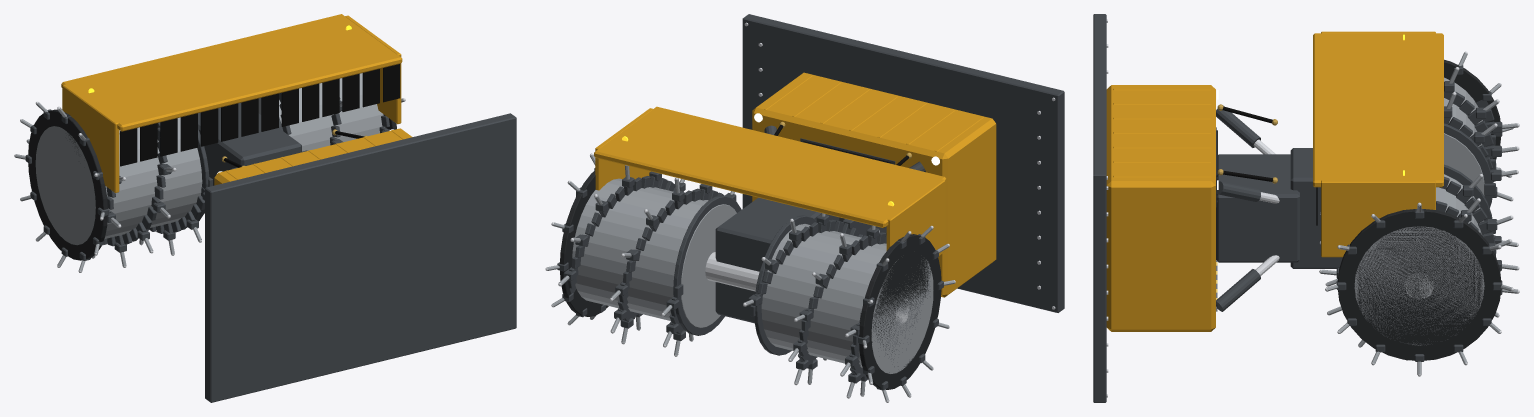
Rendered from mining_head_xl.glb.
3 renders of one model, left to right at view 1: azimuth 30°, elevation 25°; view 2: azimuth 150°, elevation 25°; view 3: azimuth 270°, elevation 25°, orthographic. The views are drawn at different scales.
Visible parts, largest first — view 1: mining_head_xl; view 2: mining_head_xl; view 3: mining_head_xl.
Part boxes in pixels (x1,y1,x2,y2): mining_head_xl: (14,14,516,402); mining_head_xl: (545,14,1064,402); mining_head_xl: (1093,14,1519,402).
Size of the model in its own units: 4 by 2.6 by 4.4.
